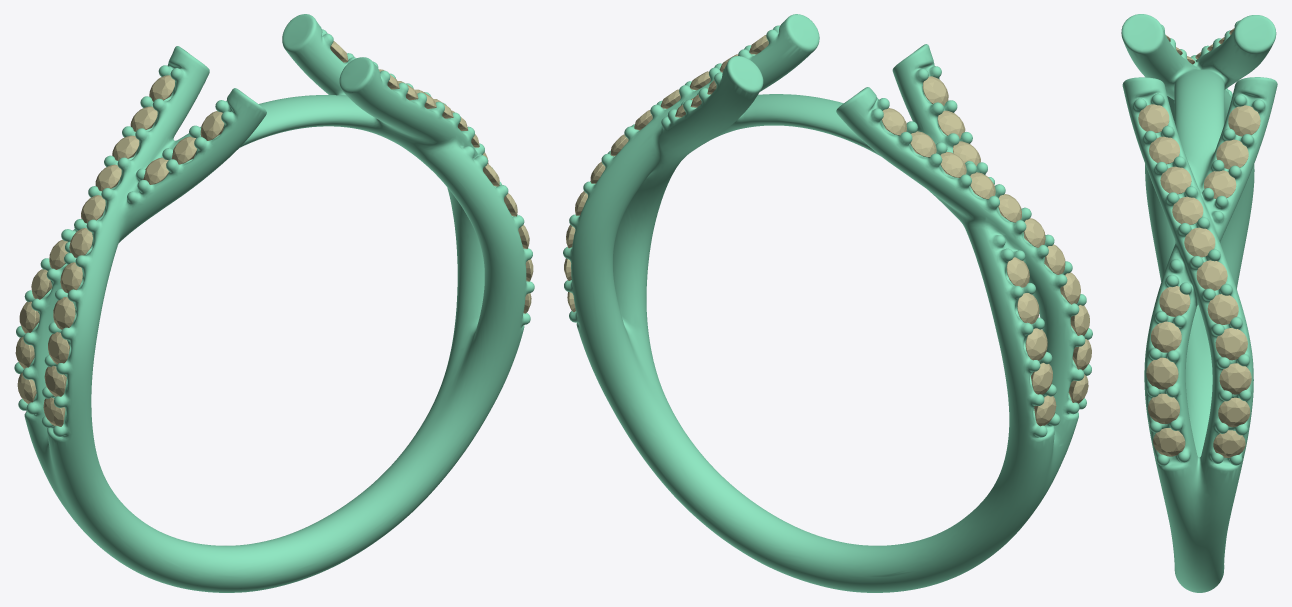
The picture shows the model from 3 angles, left to right: view 1: azimuth 30°, elevation 25°; view 2: azimuth 150°, elevation 25°; view 3: azimuth 270°, elevation 25°; orthographic projection.
Parts seen in each view (by area): view 1: Metal02; view 2: Metal02; view 3: Metal02, Diamond_Gem.034, Diamond_Gem.002, Diamond_Gem.036, Diamond_Gem.001, Diamond_Gem.031, Diamond_Gem.030, Diamond_Gem.003, Diamond_Gem.004, Diamond_Gem.010, Diamond_Gem.032, Diamond_Gem.033 (+8 smaller).
Part boxes in pixels (x1,y1,x2,y2): Metal02: (14, 14, 534, 592); Metal02: (563, 14, 1092, 592); Metal02: (1121, 14, 1277, 592); Diamond_Gem.034: (1146, 357, 1178, 389); Diamond_Gem.002: (1215, 328, 1247, 360); Diamond_Gem.036: (1228, 105, 1260, 136); Diamond_Gem.001: (1219, 363, 1251, 394); Diamond_Gem.031: (1148, 393, 1179, 424); Diamond_Gem.030: (1151, 321, 1181, 352); Diamond_Gem.003: (1207, 294, 1238, 324); Diamond_Gem.004: (1196, 260, 1227, 290); Diamond_Gem.010: (1218, 397, 1250, 427); Diamond_Gem.032: (1153, 428, 1185, 456); Diamond_Gem.033: (1159, 286, 1190, 316).
Bounding box in the file's own units: 21.33 × 22.25 × 6.02.
